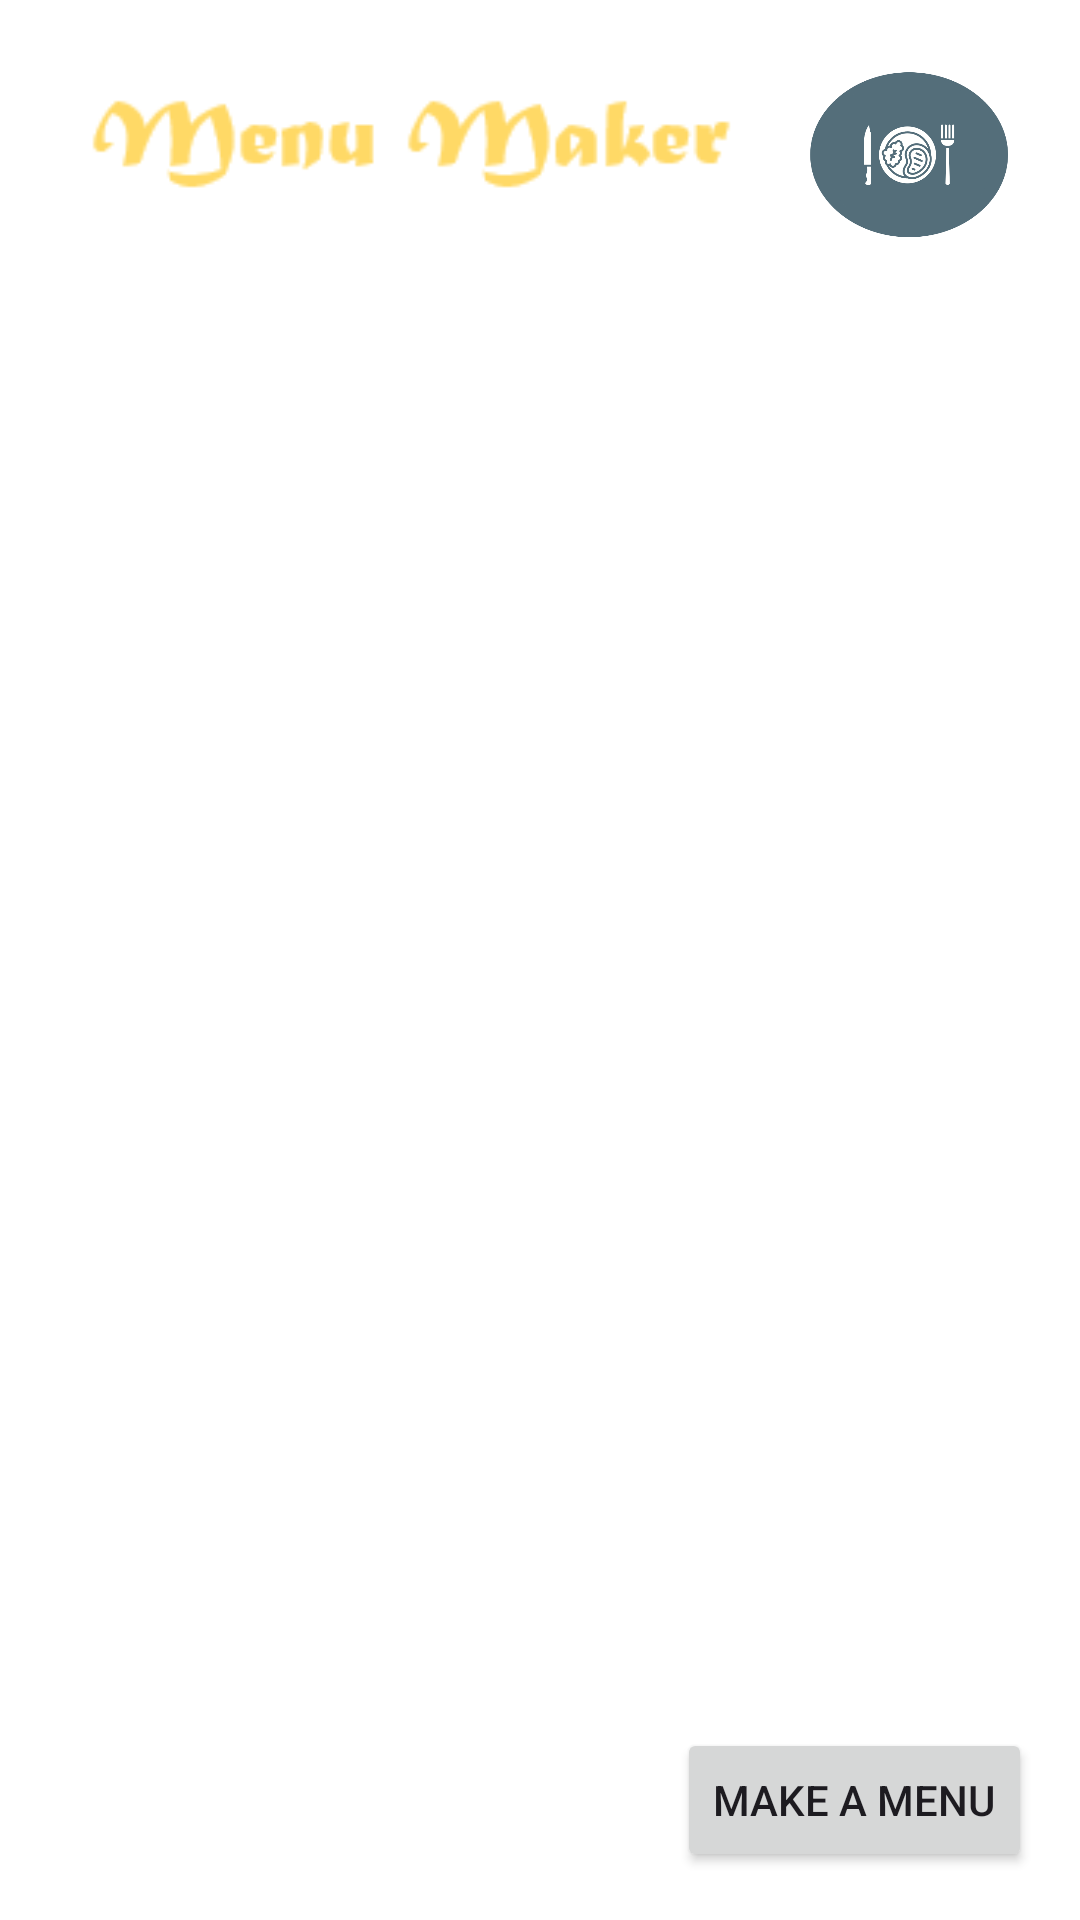

Icon bounding boxes for this 1080px×1920px phone screenshot, format (x1, y1, x2, y2):
meal: (810, 72, 1008, 237)
